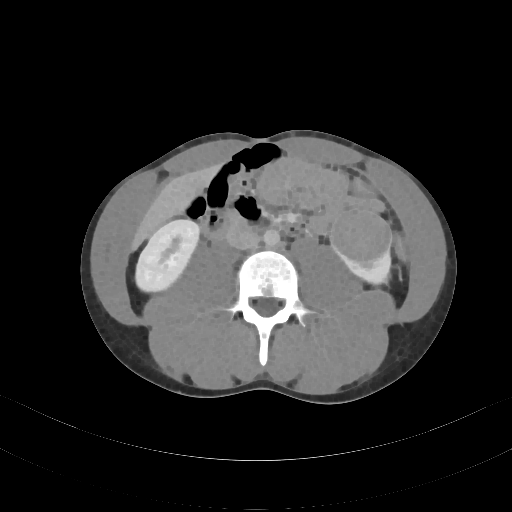Lesion: (332, 209, 392, 266)
